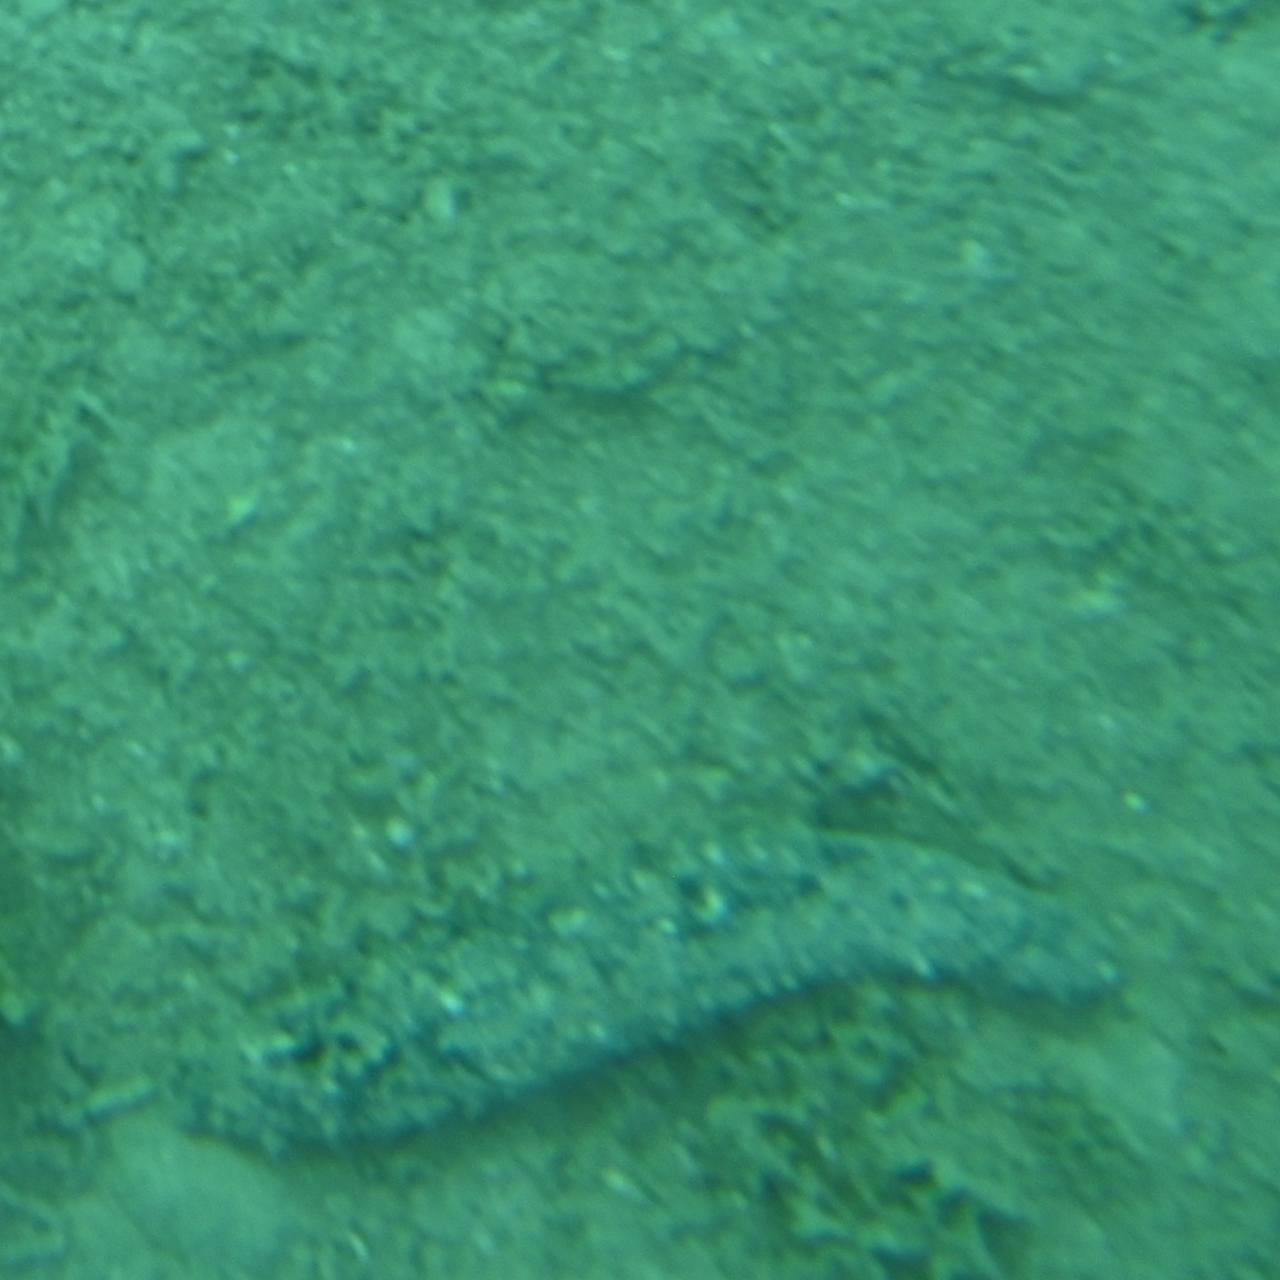Holothuria tubulosa: (154, 813, 1126, 1180)
